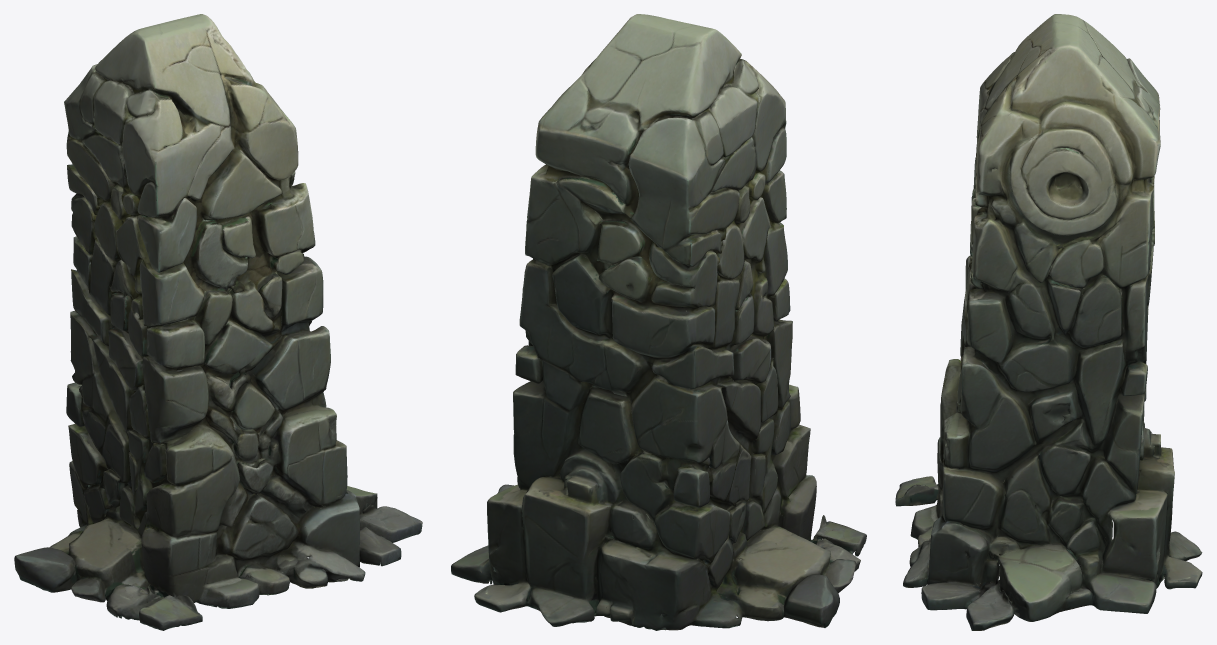
File: Meshy_AI_Ancient_Obelisk_1016193831_texture.fbx
The picture shows the model from 3 angles, left to right: view 1: azimuth 30°, elevation 25°; view 2: azimuth 150°, elevation 25°; view 3: azimuth 270°, elevation 25°; orthographic projection. The views are drawn at different scales.
Parts seen in each view (by area): view 1: Mesh_0; view 2: Mesh_0; view 3: Mesh_0.
Part boxes in pixels (x1,y1,x2,y2): Mesh_0: (14,14,422,630); Mesh_0: (451,14,866,630); Mesh_0: (895,14,1202,630).
Size of the model in its own units: 142 by 200 by 109.
Materials: 1 (1 with a texture image).
